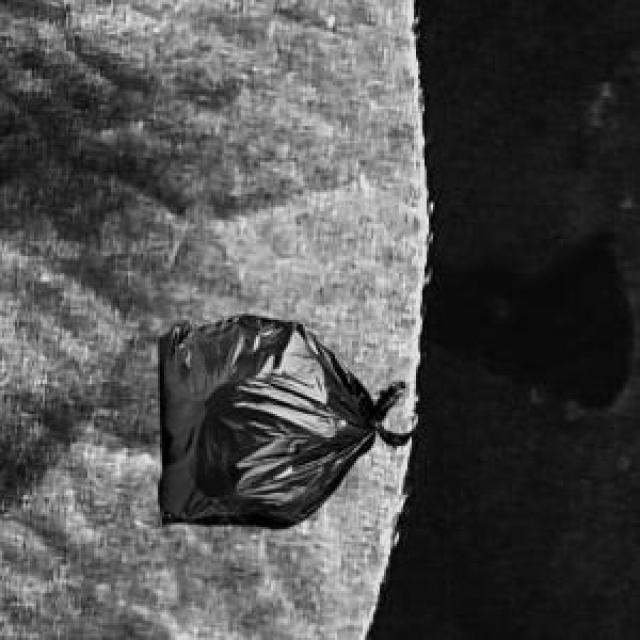miscellaneous trash: (154, 312, 411, 525)
